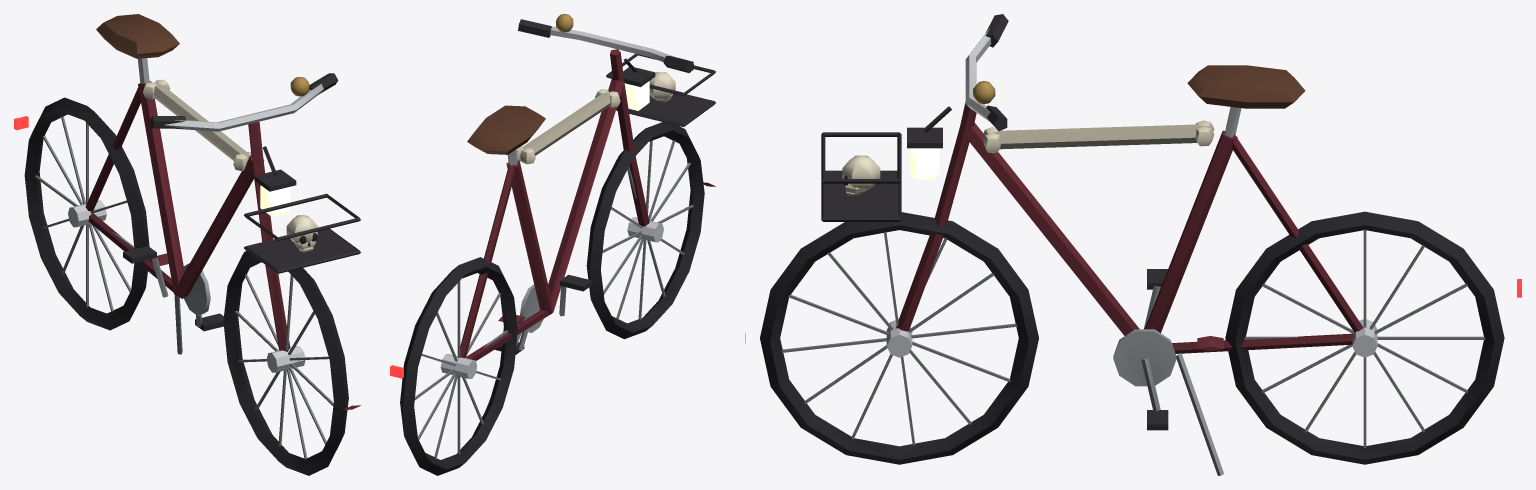
The model's file is veh_bike.glb.
The picture shows the model from 3 angles, left to right: view 1: azimuth 30°, elevation 25°; view 2: azimuth 150°, elevation 25°; view 3: azimuth 270°, elevation 25°; orthographic projection. The views are drawn at different scales.
Parts seen in each view (by area): view 1: veh_bike, wheel_R, wheel_F, glow; view 2: veh_bike, wheel_F, wheel_R, glow; view 3: veh_bike, wheel_R, wheel_F, glow.
Part boxes in pixels (x1=…): veh_bike: x1=85, y1=14, x2=361, y2=409; wheel_R: x1=24, y1=97, x2=149, y2=330; wheel_F: x1=223, y1=251, x2=348, y2=475; glow: x1=14, y1=116, x2=290, y2=216; veh_bike: x1=460, y1=14, x2=715, y2=408; wheel_F: x1=586, y1=122, x2=704, y2=339; wheel_R: x1=400, y1=257, x2=517, y2=475; glow: x1=390, y1=81, x2=649, y2=378; veh_bike: x1=745, y1=14, x2=1363, y2=475; wheel_R: x1=1225, y1=211, x2=1504, y2=464; wheel_F: x1=760, y1=212, x2=1038, y2=464; glow: x1=910, y1=148, x2=1521, y2=297.
Size of the model in its own units: 0.5906 by 1.07 by 1.84.
